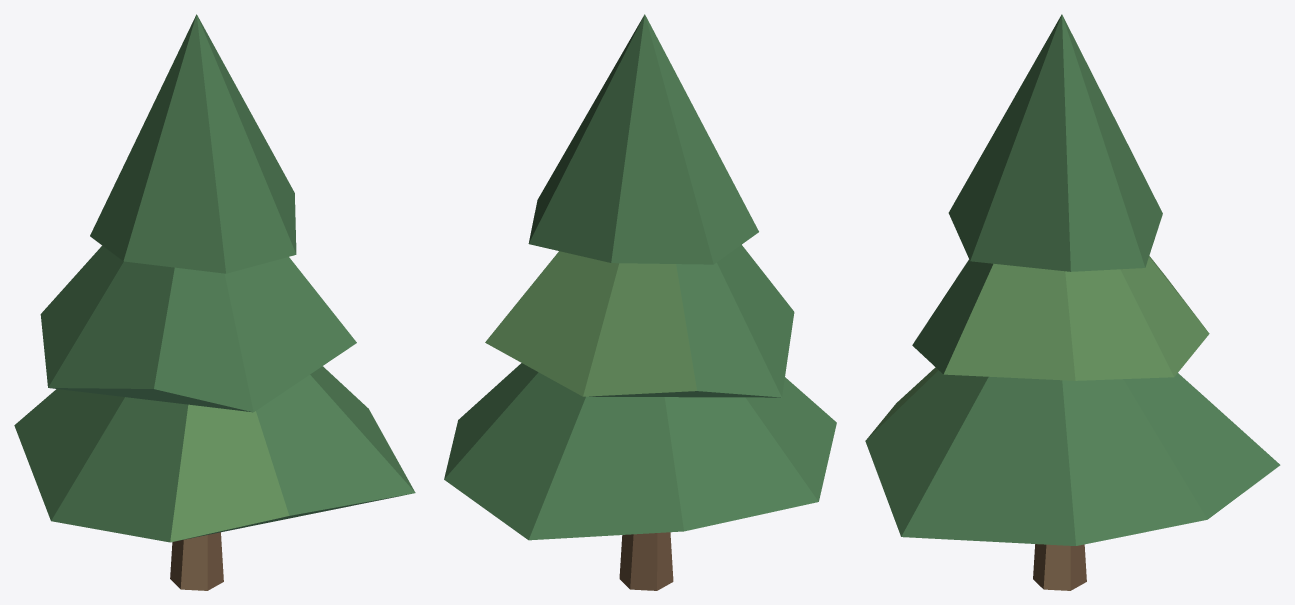
File: Pine_0.glb
The picture shows the model from 3 angles, left to right: view 1: azimuth 30°, elevation 25°; view 2: azimuth 150°, elevation 25°; view 3: azimuth 270°, elevation 25°; orthographic projection.
Parts seen in each view (by area): view 1: Pine_0; view 2: Pine_0; view 3: Pine_0.
Part boxes in pixels (x1=…): Pine_0: x1=14, y1=14, x2=415, y2=590; Pine_0: x1=444, y1=14, x2=836, y2=590; Pine_0: x1=865, y1=14, x2=1280, y2=590.
Bounding box in the file's own units: 0.6488 × 1.03 × 0.6874.
